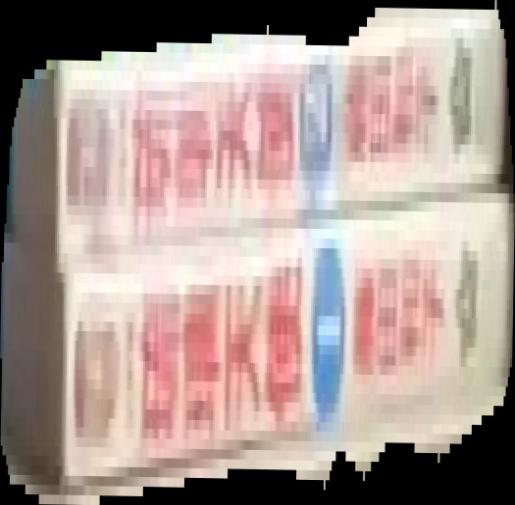flat: (1, 1, 515, 505)
